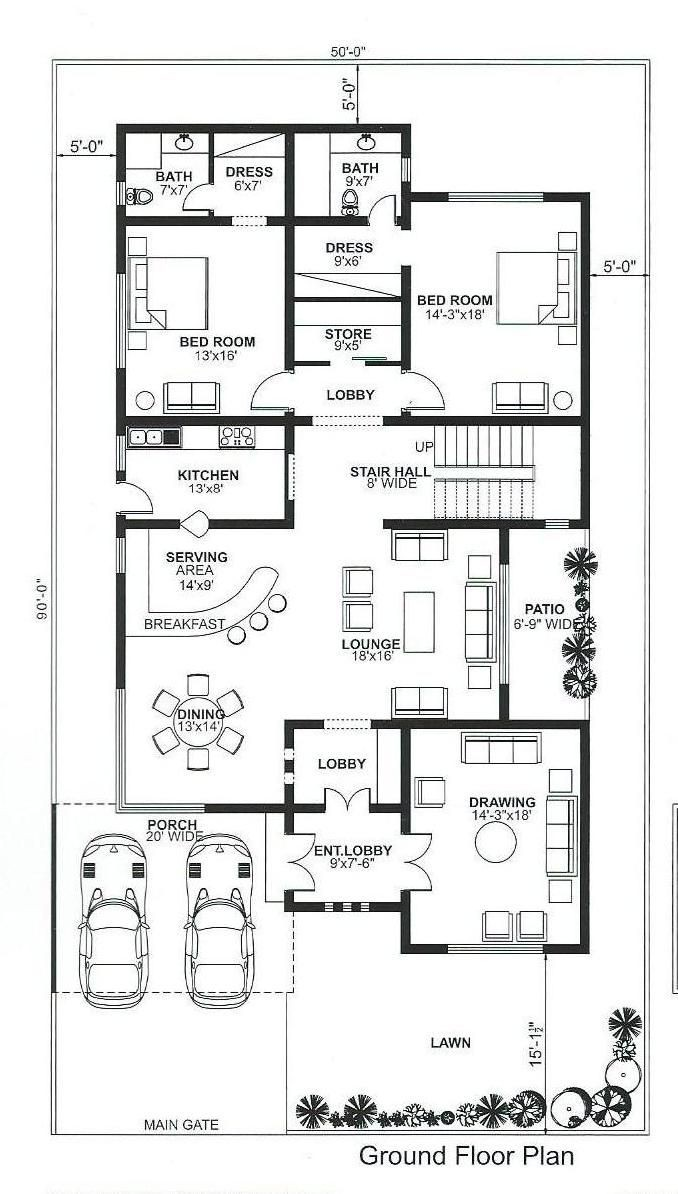door: (386, 365, 460, 420), (237, 355, 300, 417), (398, 823, 448, 899), (284, 830, 325, 906), (116, 473, 173, 520), (320, 774, 374, 822), (174, 173, 226, 222), (364, 180, 406, 233)
room: (121, 525, 288, 809), (411, 193, 593, 432), (287, 522, 511, 714), (410, 728, 587, 955), (117, 218, 291, 430), (287, 427, 587, 526), (119, 416, 296, 527), (289, 217, 411, 363), (501, 522, 587, 717), (284, 122, 407, 225), (284, 808, 408, 908), (117, 123, 216, 227), (291, 725, 406, 811), (211, 122, 287, 222)
wall: (107, 109, 422, 144), (574, 179, 605, 531), (382, 398, 594, 442), (270, 117, 306, 369), (374, 709, 594, 744), (574, 720, 600, 957), (103, 408, 312, 437), (377, 506, 541, 540), (203, 792, 329, 830), (113, 201, 230, 241), (106, 573, 140, 690), (210, 506, 306, 542), (393, 264, 425, 371), (388, 717, 417, 835), (268, 202, 368, 235), (102, 361, 140, 435), (384, 889, 424, 959), (102, 509, 181, 539), (100, 206, 135, 273), (384, 935, 450, 968), (543, 931, 603, 966), (110, 118, 139, 183), (270, 713, 329, 744), (545, 185, 602, 216), (491, 509, 517, 564), (394, 114, 424, 160), (277, 895, 325, 920), (400, 184, 451, 206), (398, 182, 420, 230), (496, 679, 515, 732), (282, 404, 298, 456), (277, 893, 298, 920)
window: (451, 173, 549, 221), (102, 273, 145, 371), (446, 925, 544, 968), (111, 785, 205, 827), (494, 563, 522, 685), (108, 687, 129, 818), (325, 704, 381, 745), (265, 745, 306, 788), (275, 454, 310, 502), (230, 198, 272, 235), (100, 179, 140, 206), (111, 432, 132, 479), (393, 154, 420, 185), (543, 508, 570, 536), (113, 535, 129, 578)
